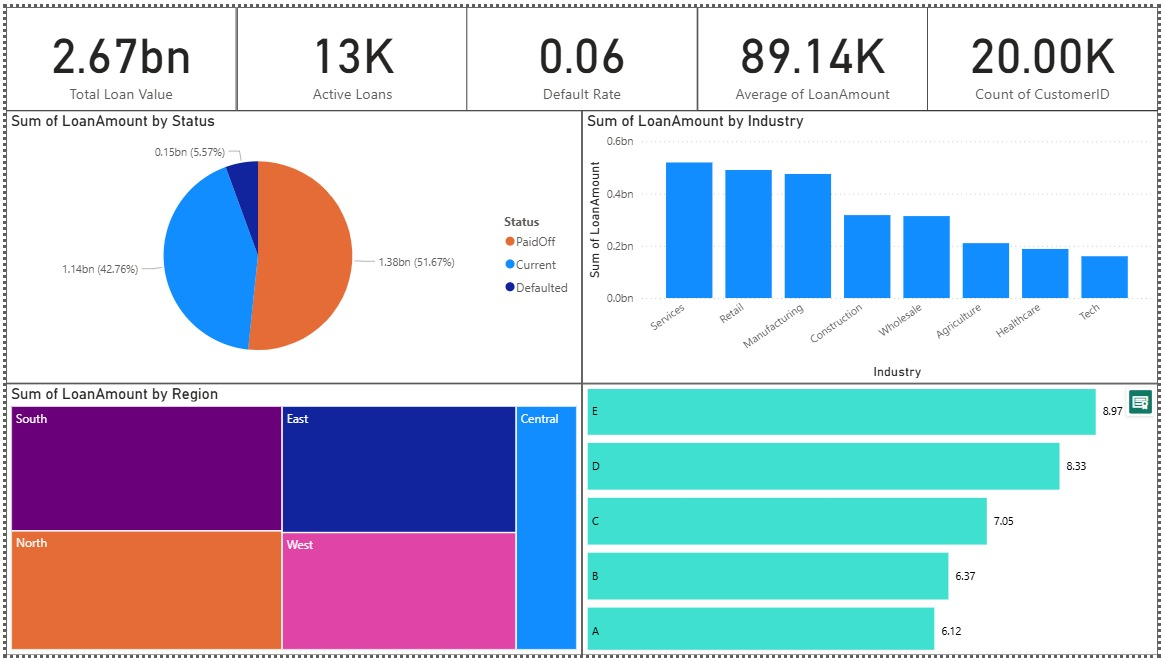

Layout of this report page (visuals, bound fields, positions):
{"tool":"powerbi","page":{"name":"Portfolio Summary","canvas":[1280,720],"ordinal":0},"visuals":[{"type":"card","fields":{"Values":["Loans.Total Loan Value"]},"box":[47,8,200,106],"z":0},{"type":"card","fields":{"Values":["Loans.Active Loans"]},"box":[294,8,200,106],"z":1000},{"type":"card","fields":{"Values":["Loans.Default Rate"]},"box":[539,8,200,106],"z":2000},{"type":"pieChart","fields":{"Category":["Loans.Status"],"Y":["Sum(Loans.LoanAmount)"]},"box":[6,122,630,292],"z":3000},{"type":"areaChart","fields":{"Category":["Loans.RiskGradeAtOrigination"],"Y":["Avg(Loans.InterestRate)"]},"box":[644,421,630,292],"z":4000},{"type":"ribbonChart","fields":{"Category":["Customers.Region"],"Y":["Sum(Loans.LoanAmount)"]},"box":[6,421,630,292],"z":5000},{"type":"columnChart","fields":{"Category":["Customers.Industry"],"Y":["Sum(Loans.LoanAmount)"]},"box":[644,122,630,292],"z":6000},{"type":"card","fields":{"Values":["Count(Customers.CustomerID)"]},"box":[1032,8,200,106],"z":7000},{"type":"card","fields":{"Values":["Avg(Loans.LoanAmount)"]},"box":[785,8,200,106],"z":8000}]}

Visuals, with their boxes in screenshot pixels (x1, y1, x2, y2), scaled from the page's 1280x720 canvas onto the 1163x658 screenshot:
card - Loans.Total Loan Value: [43,7,224,104]
card - Loans.Active Loans: [267,7,449,104]
card - Loans.Default Rate: [490,7,671,104]
pieChart - Loans.Status x Sum(Loans.LoanAmount): [5,111,578,378]
areaChart - Loans.RiskGradeAtOrigination x Avg(Loans.InterestRate): [585,385,1158,652]
ribbonChart - Customers.Region x Sum(Loans.LoanAmount): [5,385,578,652]
columnChart - Customers.Industry x Sum(Loans.LoanAmount): [585,111,1158,378]
card - Count(Customers.CustomerID): [938,7,1119,104]
card - Avg(Loans.LoanAmount): [713,7,895,104]
